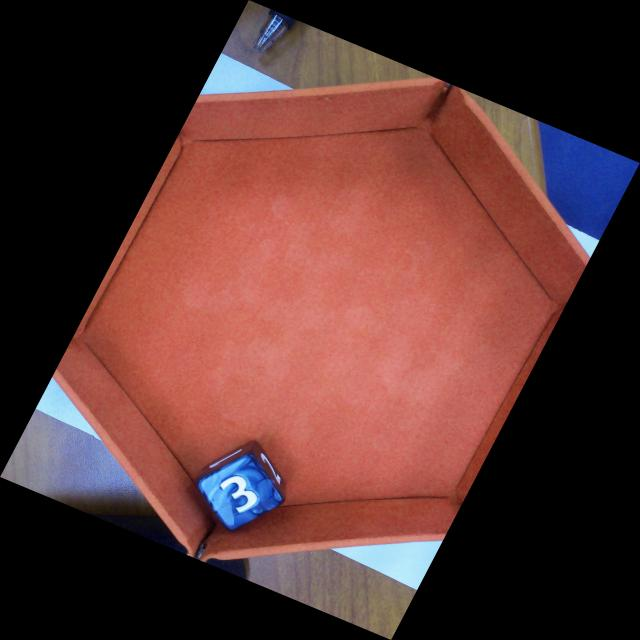dice: (192, 450, 288, 536)
